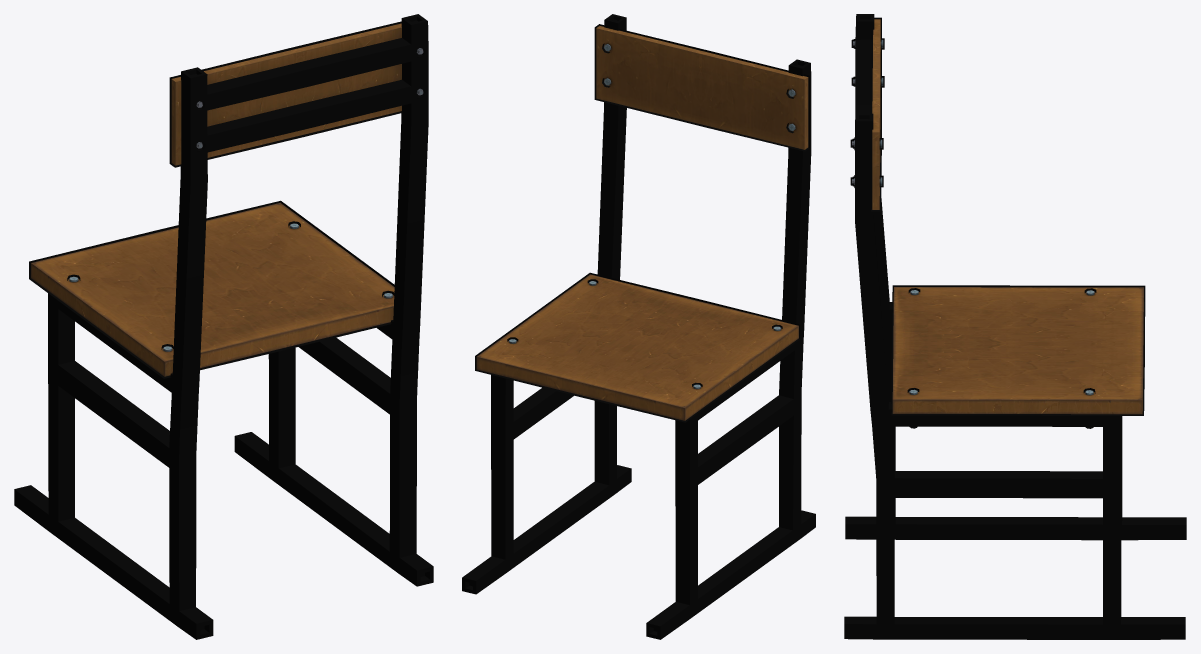
Rendered from Teachers Chair.fbx.
3 renders of one model, left to right at view 1: azimuth 30°, elevation 25°; view 2: azimuth 150°, elevation 25°; view 3: azimuth 270°, elevation 25°, orthographic. The views are drawn at different scales.
Parts seen in each view (by area): view 1: Teachers Chair; view 2: Teachers Chair; view 3: Teachers Chair.
Part boxes in pixels (left/top/right/bottom): Teachers Chair: left=14, top=14, right=433, bottom=639; Teachers Chair: left=462, top=14, right=815, bottom=639; Teachers Chair: left=844, top=14, right=1186, bottom=639.
Bounding box in the file's own units: 60.44 × 128 × 76.4.
